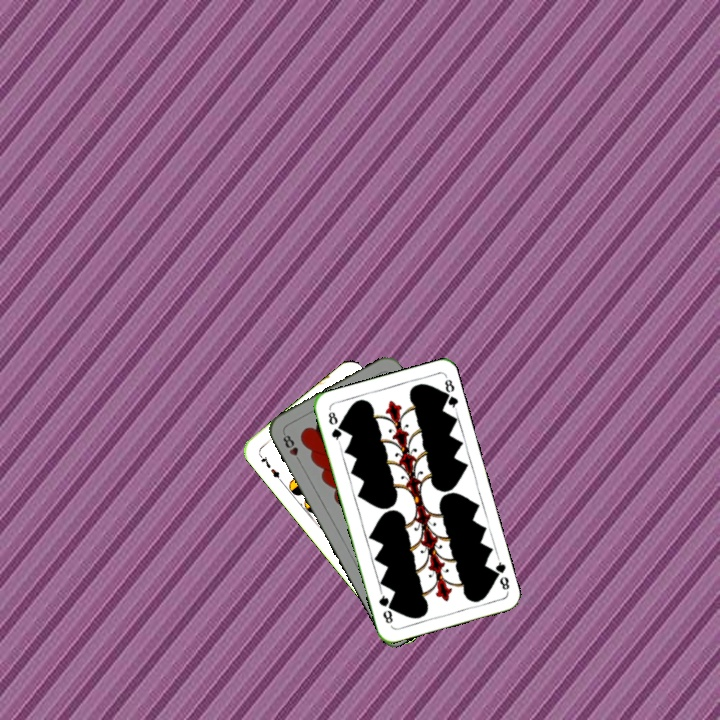E7: (255, 450, 285, 484)
G8: (488, 554, 512, 594), (324, 407, 344, 446)
H8: (279, 429, 304, 466)
